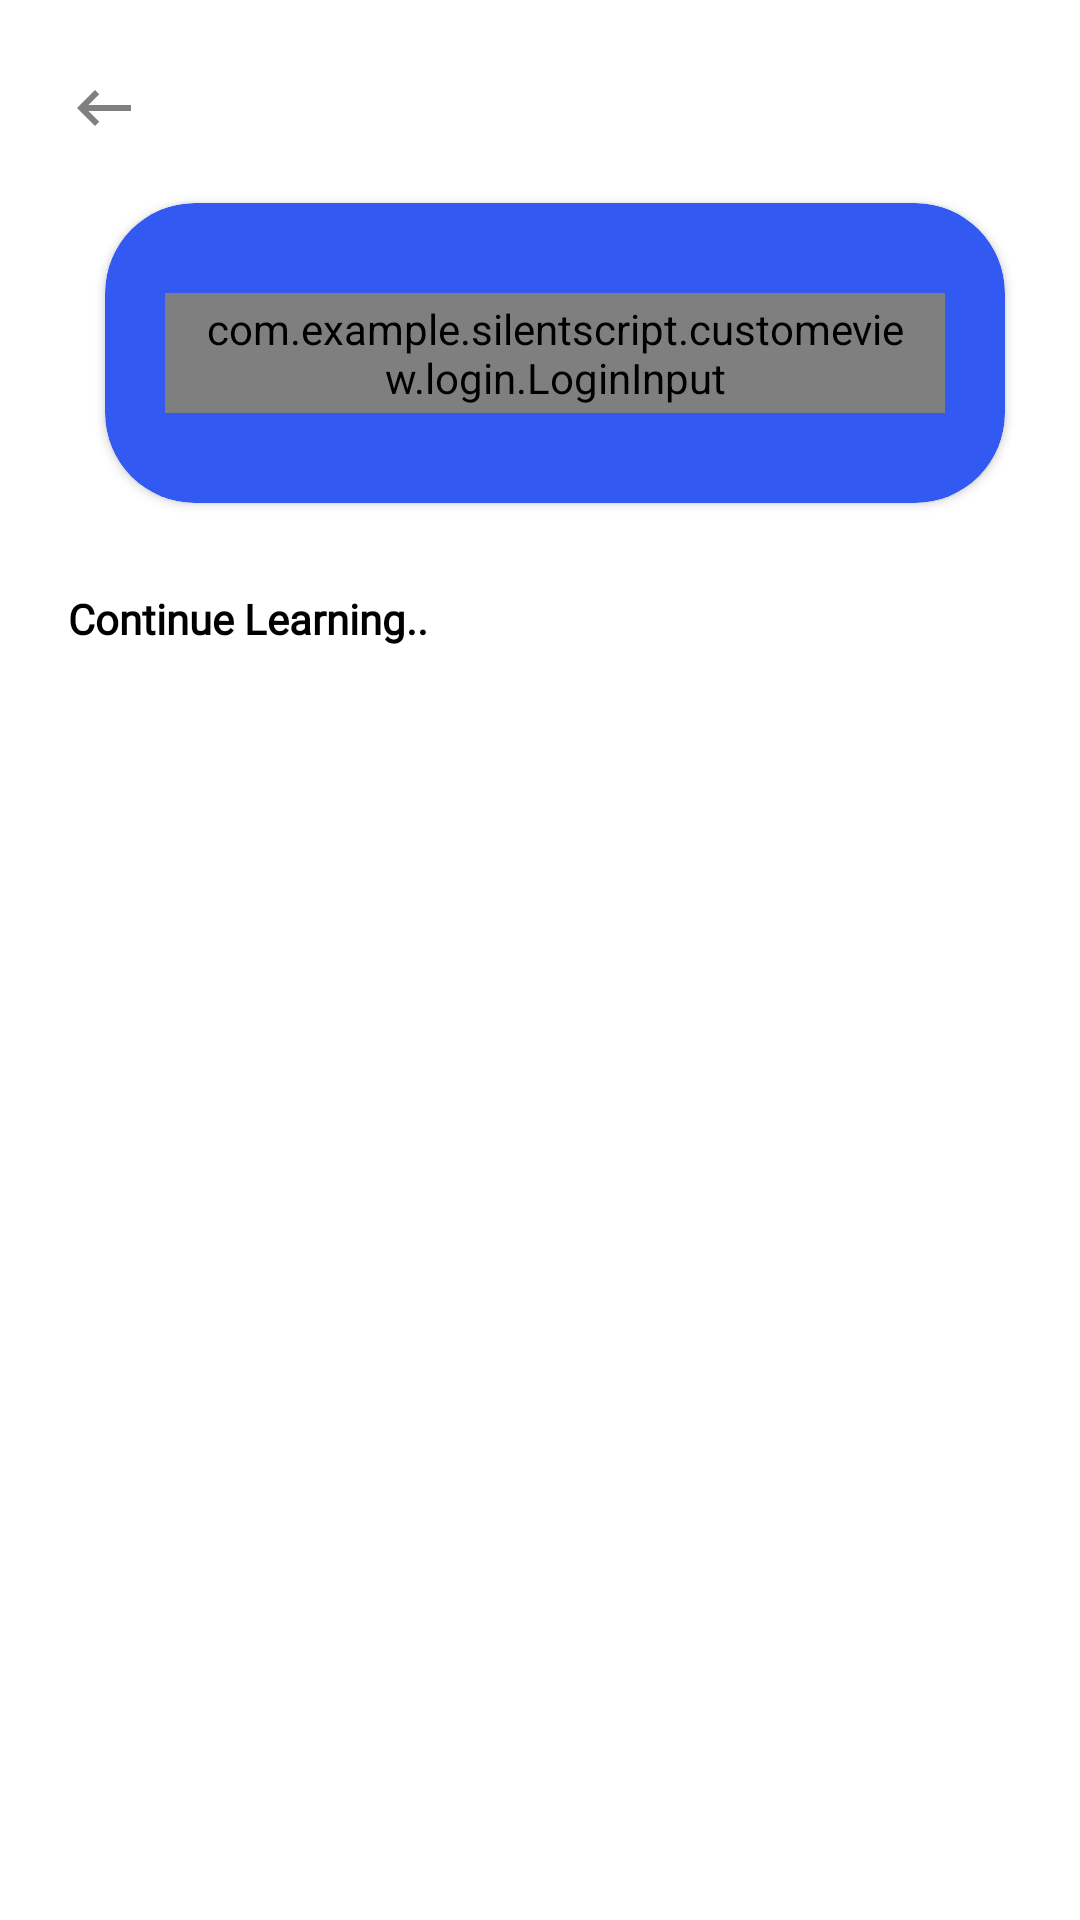

Named icons in this screenshot (1080×1920) and their centers, point (x, y):
keyboard backspace: point (104, 108)
